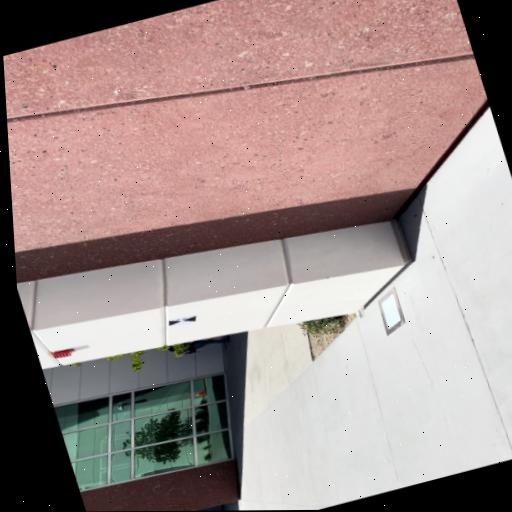target2: (169, 315, 196, 327)
